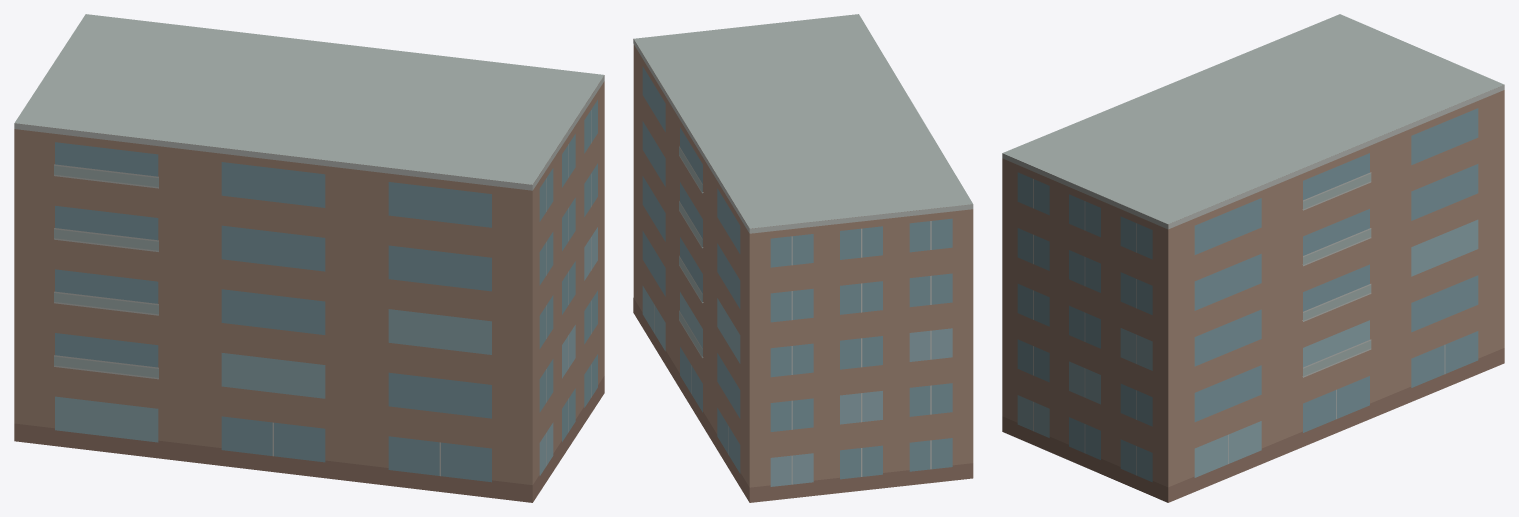
Rendered from survey-upis-32892883.glb.
The picture shows the model from 3 angles, left to right: view 1: azimuth 30°, elevation 25°; view 2: azimuth 150°, elevation 25°; view 3: azimuth 270°, elevation 25°; orthographic projection. The views are drawn at different scales.
Parts seen in each view (by area): view 1: survey-upis-32892883.tmp; view 2: survey-upis-32892883.tmp; view 3: survey-upis-32892883.tmp.
Boxes of the visible parts, bbox=[...] form: survey-upis-32892883.tmp: bbox=[14, 14, 604, 502]; survey-upis-32892883.tmp: bbox=[633, 14, 973, 502]; survey-upis-32892883.tmp: bbox=[1002, 14, 1504, 502].
Size of the model in its own units: 21.55 by 13.3 by 21.75.
